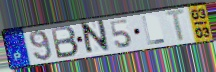5: (108, 18, 133, 50)
9: (27, 29, 54, 62)
B: (49, 24, 81, 60)
L: (140, 15, 167, 46)
N: (81, 18, 112, 57)
T: (163, 7, 189, 44)
